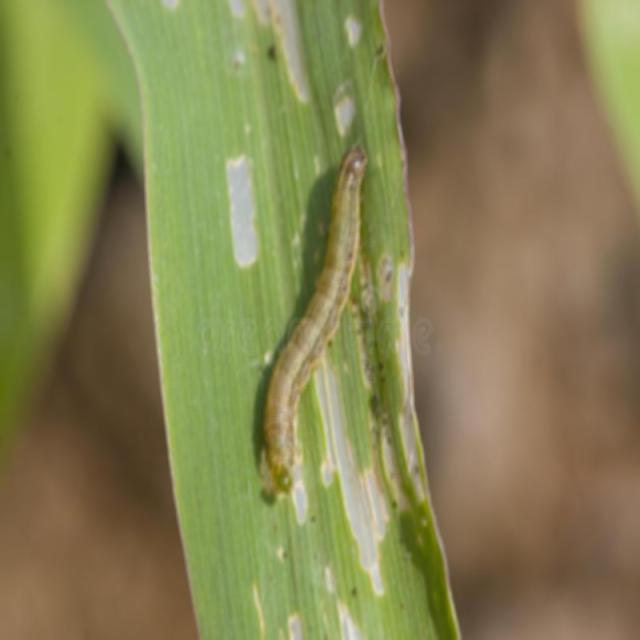army worm: (252, 140, 374, 508)
